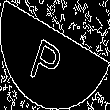P_NE: (35, 24, 75, 86)
